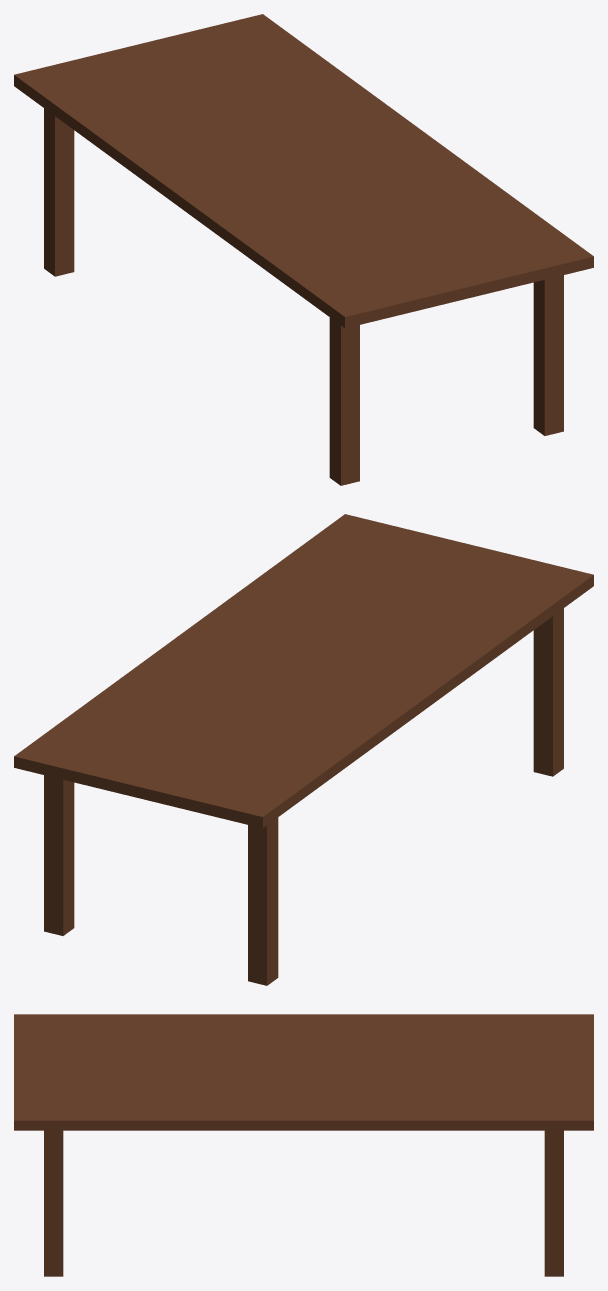
Rendered from GrandeTable_29.fbx.
3 renders of one model, top to bottom at view 1: azimuth 30°, elevation 25°; view 2: azimuth 150°, elevation 25°; view 3: azimuth 270°, elevation 25°, orthographic. The views are drawn at different scales.
Visible parts, largest first — view 1: pCube79, pCube77, pCube75, pCube78; view 2: pCube79, pCube75, pCube77, pCube76; view 3: pCube79, pCube78, pCube76.
Part boxes in pixels (x1,y1,x2,y2): pCube79: (14,14,593,328); pCube77: (329,317,359,485); pCube75: (44,108,74,276); pCube78: (533,275,563,435); pCube79: (14,514,593,828); pCube75: (248,817,278,985); pCube77: (533,608,563,776); pCube76: (44,775,74,935); pCube79: (14,1014,593,1130); pCube78: (44,1130,63,1276); pCube76: (544,1130,563,1276).
Size of the model in its own units: 53.95 by 38.21 by 124.
